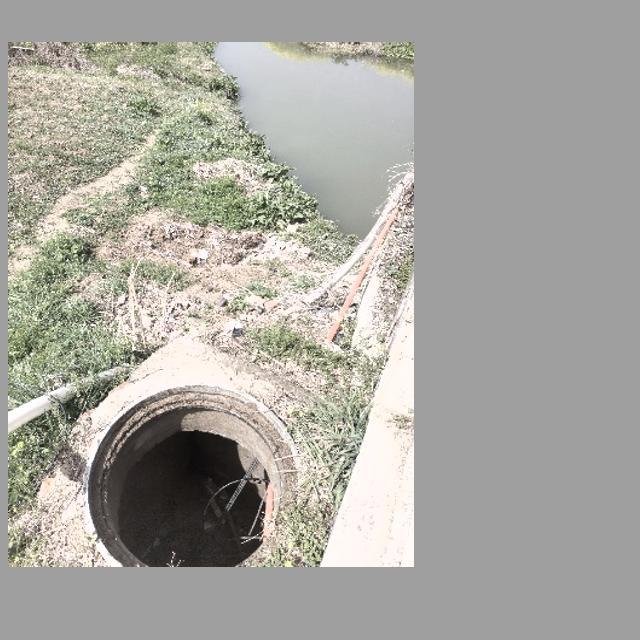lose: (82, 391, 317, 561)
